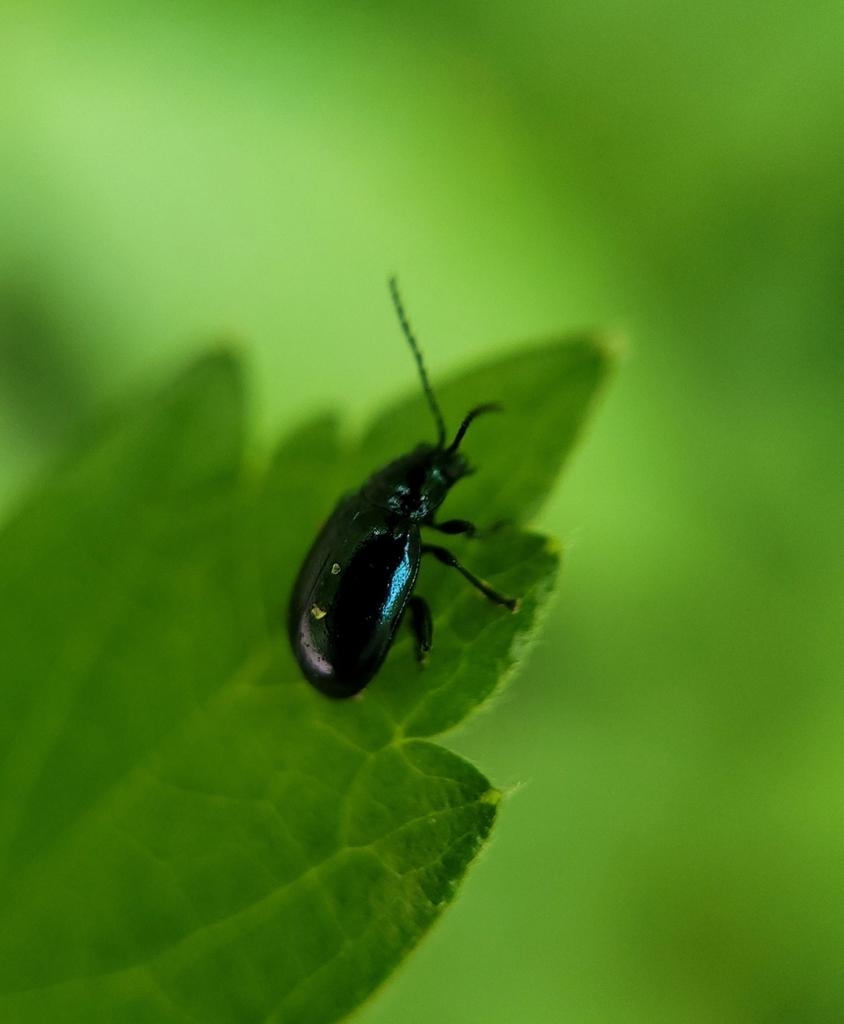flea_beetle: (206, 217, 623, 758)
